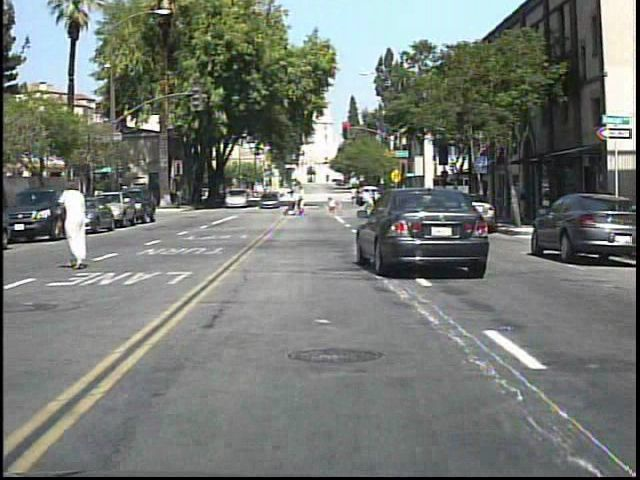person: (55, 178, 98, 271), (509, 176, 532, 227), (295, 183, 311, 219)
